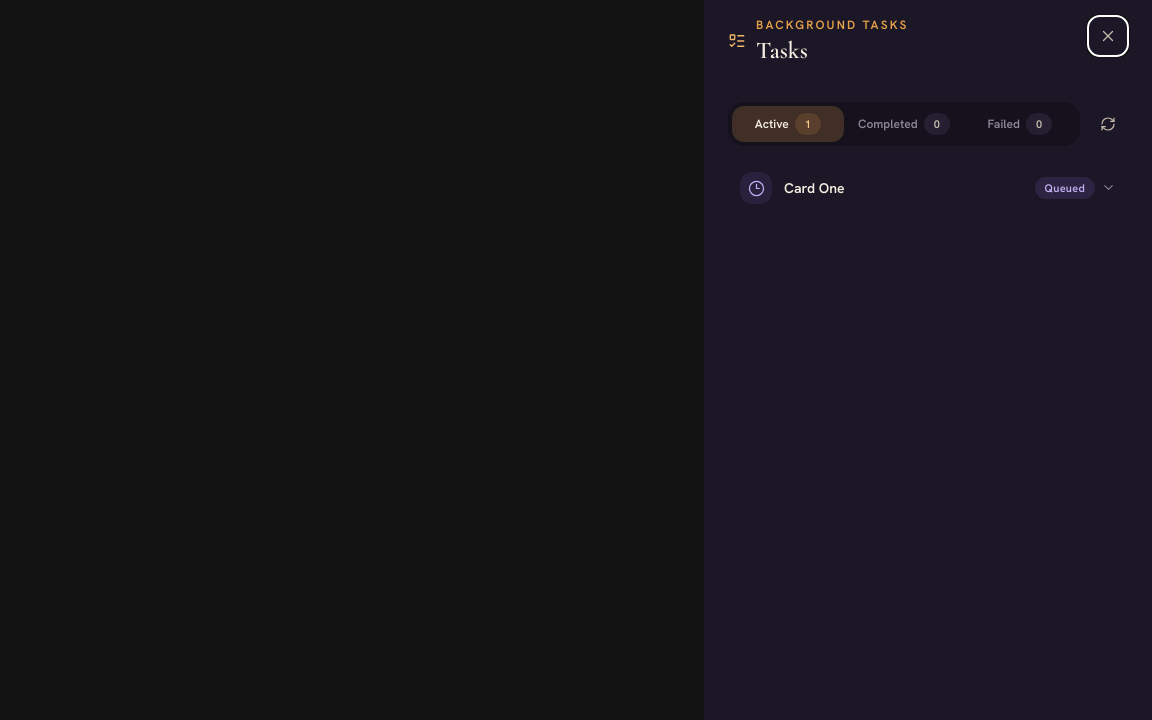
Scenario: TasksDrawer › shows an empty state for tabs without tasks
Click the button "Completed 0" at [904, 124], box [848, 106, 960, 142]
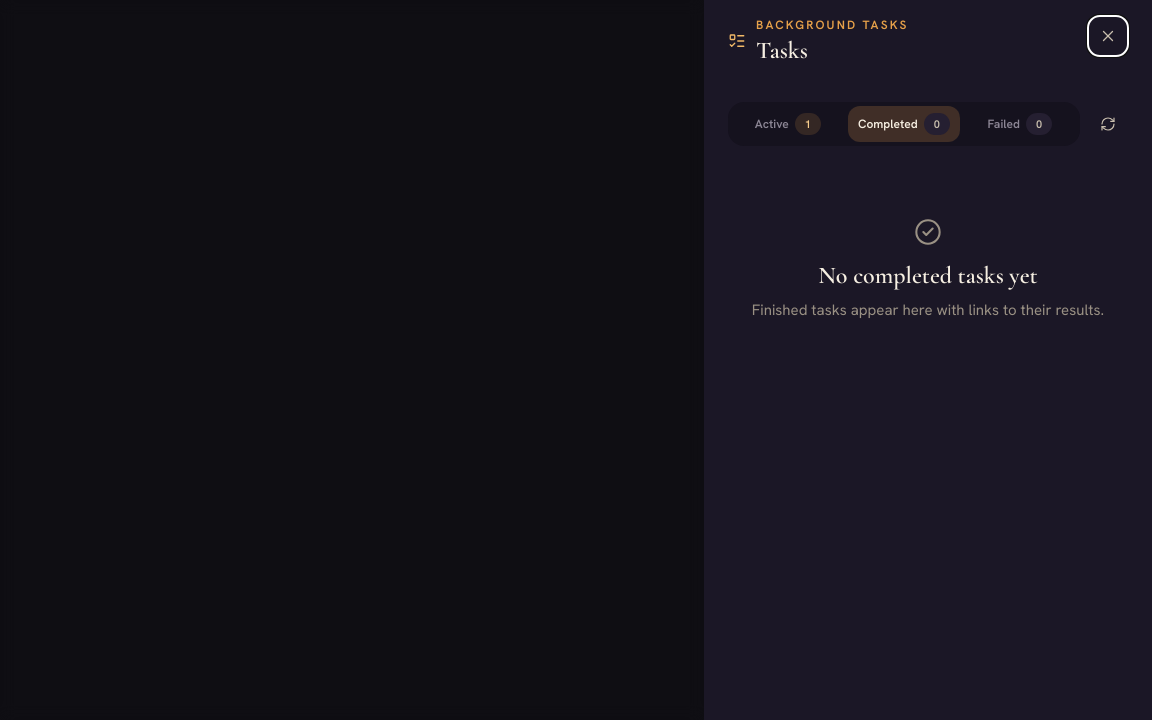
Result: the heading "No completed tasks yet" is shown at [818, 262, 1038, 291]
